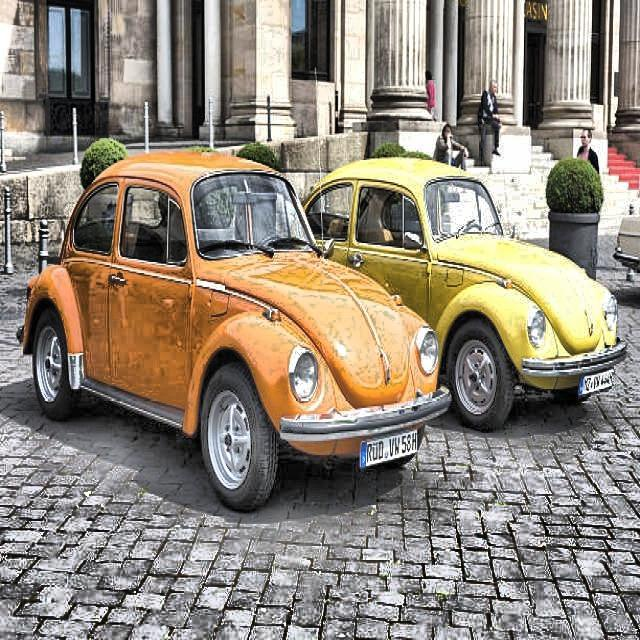carro: (21, 153, 443, 494)
